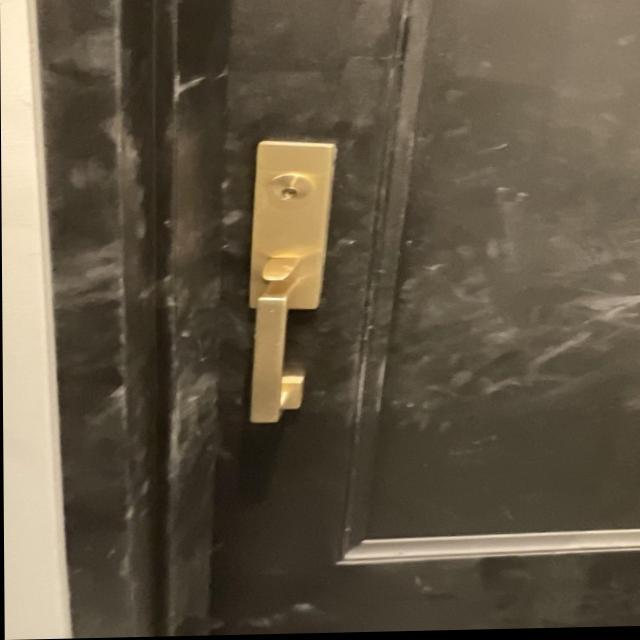door_handle: (204, 280, 338, 432)
